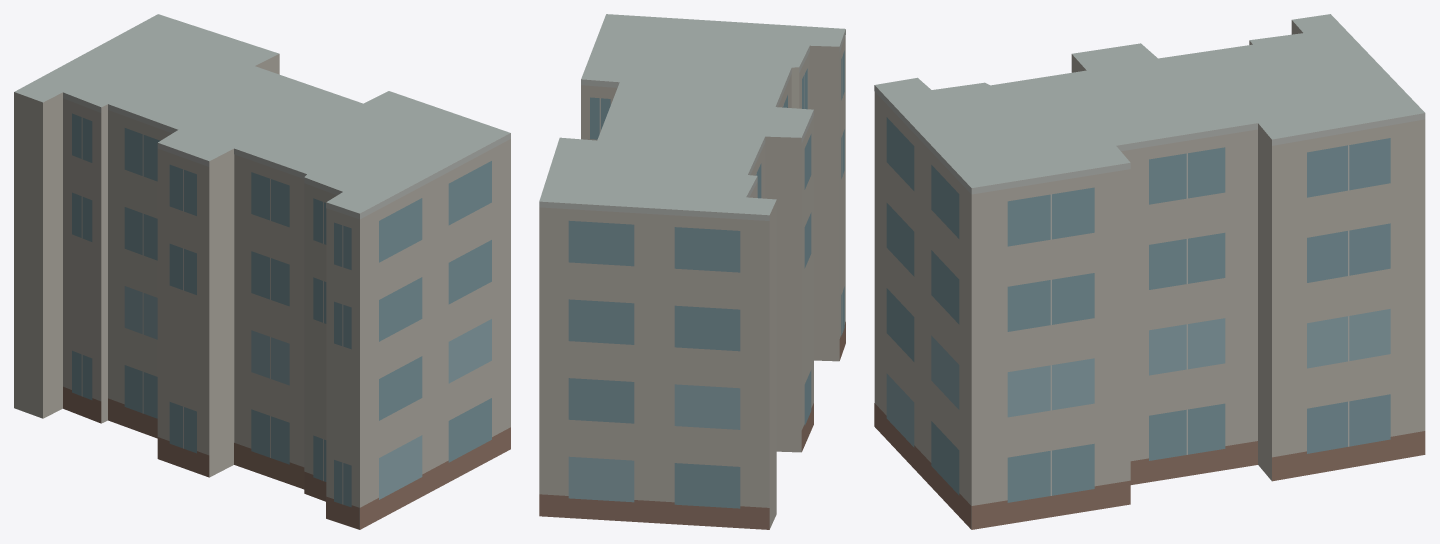
The model's file is survey-upis-32905060.glb.
The picture shows the model from 3 angles, left to right: view 1: azimuth 30°, elevation 25°; view 2: azimuth 150°, elevation 25°; view 3: azimuth 270°, elevation 25°; orthographic projection. The views are drawn at different scales.
Parts seen in each view (by area): view 1: survey-upis-32905060.tmp; view 2: survey-upis-32905060.tmp; view 3: survey-upis-32905060.tmp.
Part boxes in pixels (left/top/right/bottom): survey-upis-32905060.tmp: left=14, top=14, right=510, bottom=529; survey-upis-32905060.tmp: left=539, top=14, right=845, bottom=529; survey-upis-32905060.tmp: left=874, top=14, right=1425, bottom=529.
Bounding box in the file's own units: 14.38 × 13.14 × 19.21.
